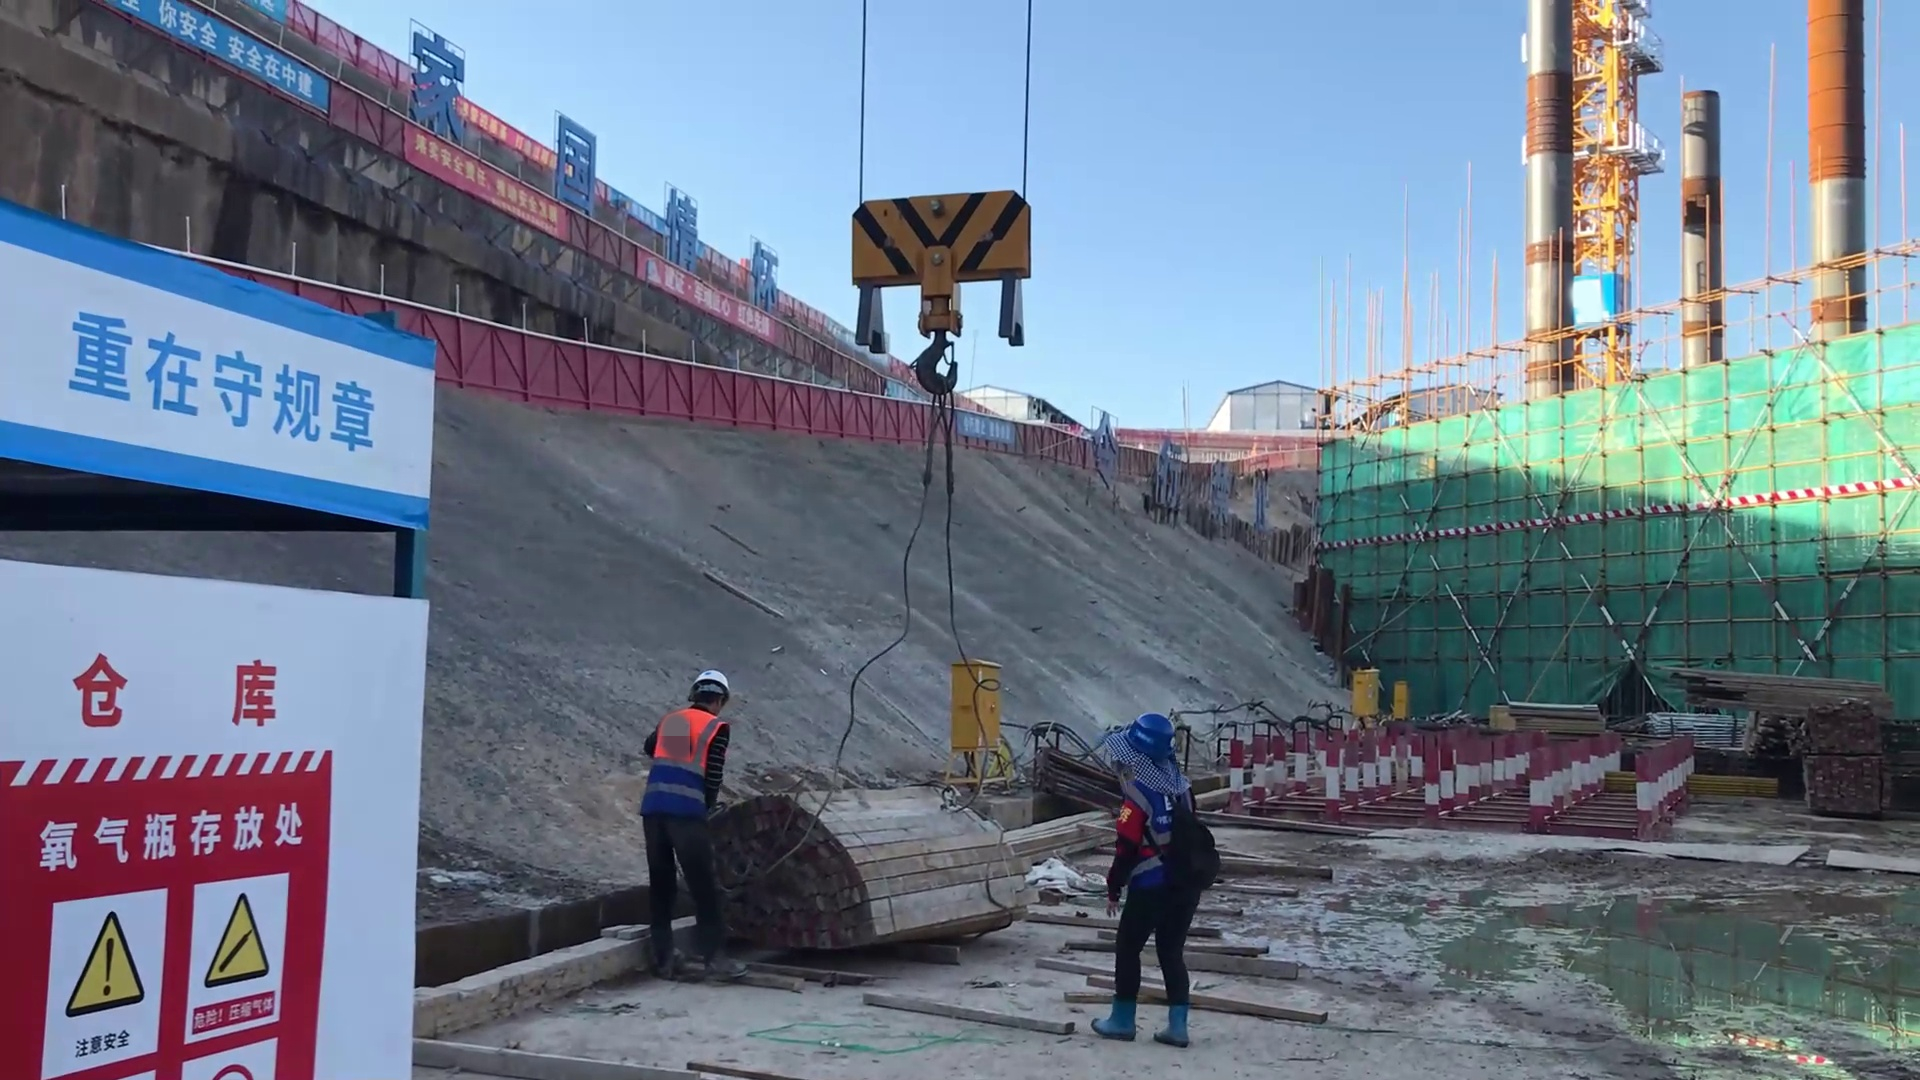ebox: (917, 635, 1026, 772), (1342, 668, 1388, 717), (1388, 677, 1411, 717)
fence: (423, 311, 659, 413), (654, 368, 882, 449)
helmet: (682, 661, 739, 705), (1124, 709, 1170, 755)
hook: (841, 168, 1044, 360)
person: (1088, 712, 1205, 1056), (629, 662, 746, 985)
slogan: (19, 642, 339, 1080), (42, 287, 407, 460), (349, 104, 591, 286), (121, 1, 317, 142)
vest: (630, 701, 714, 778)
wood: (751, 785, 1033, 960), (1669, 648, 1874, 729)
